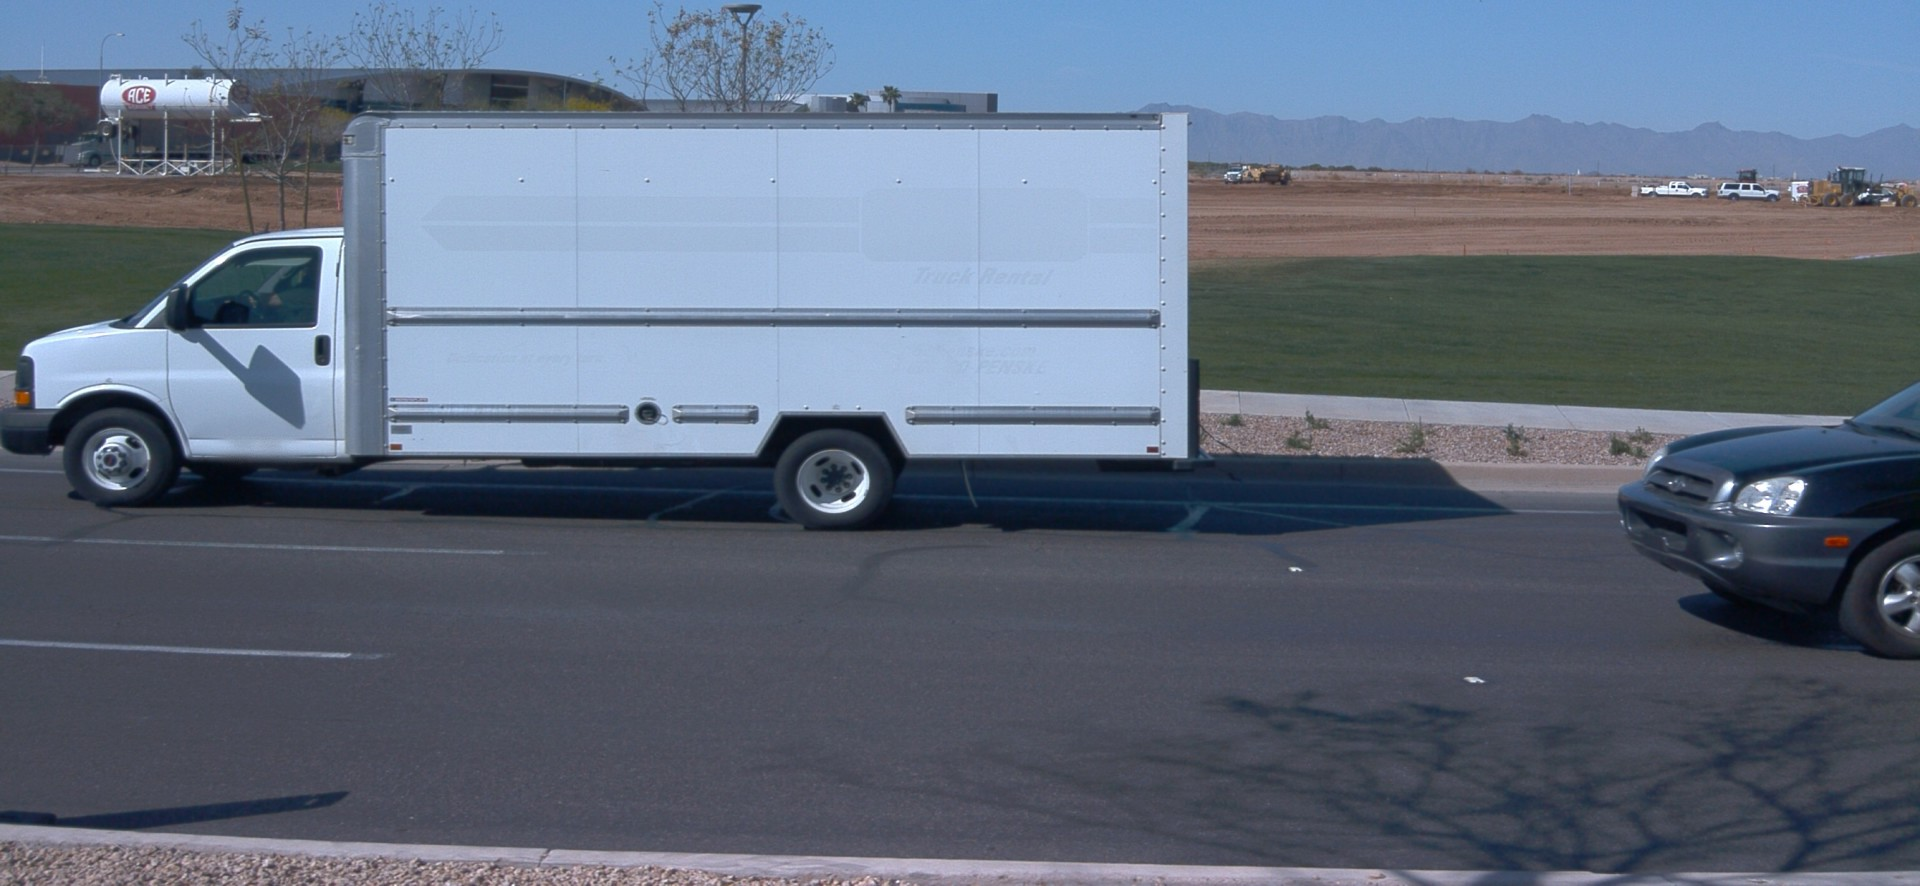TYPE_VEHICLE: (1, 104, 1227, 533), (1617, 380, 1920, 669), (62, 120, 291, 169), (1806, 165, 1918, 212), (1716, 182, 1782, 203), (1640, 180, 1710, 199), (1233, 162, 1289, 185), (1790, 181, 1810, 204), (1222, 166, 1246, 185), (1858, 188, 1893, 201), (1736, 168, 1758, 184), (1789, 185, 1794, 191)
